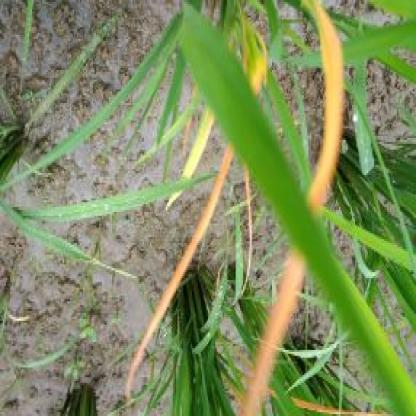Tungro: (270, 15, 349, 397)
